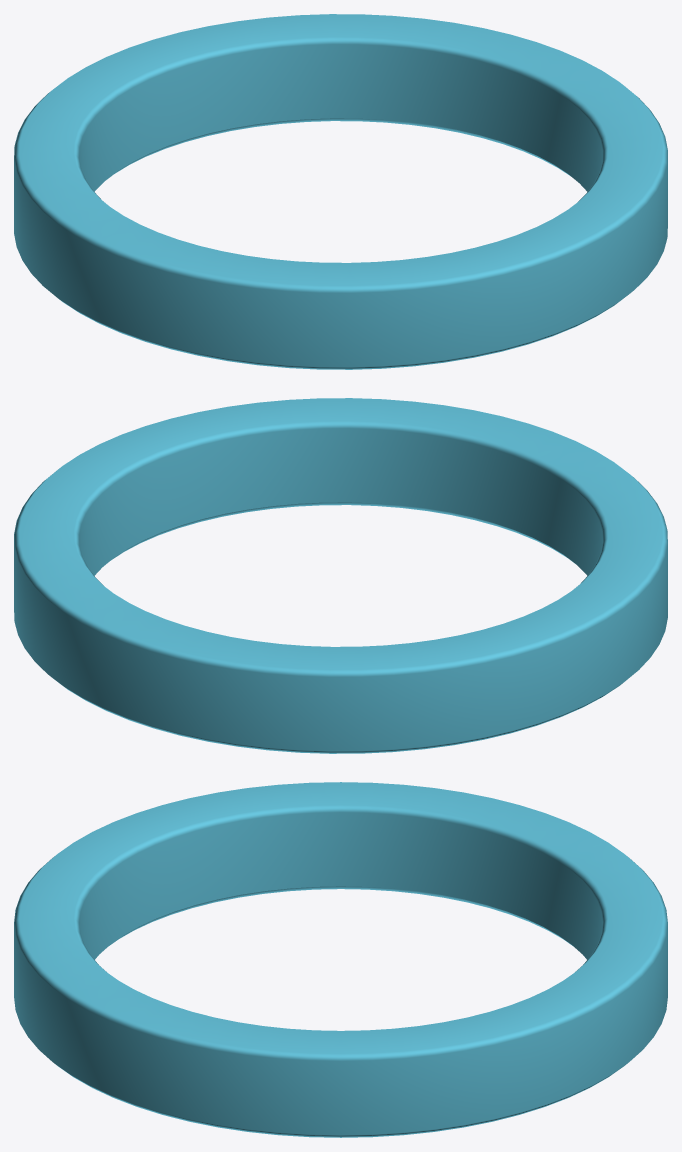
3 views of the same model, one above another, from view 1: azimuth 30°, elevation 25°; view 2: azimuth 150°, elevation 25°; view 3: azimuth 270°, elevation 25° (orthographic).
Parts seen in each view (by area): view 1: seal_body; view 2: seal_body; view 3: seal_body.
Boxes of the visible parts, bbox=[...] form: seal_body: bbox=[14, 14, 667, 369]; seal_body: bbox=[14, 398, 667, 753]; seal_body: bbox=[14, 782, 667, 1137].
Bounding box in the file's own units: 0.0476 × 0.00675 × 0.0476.
